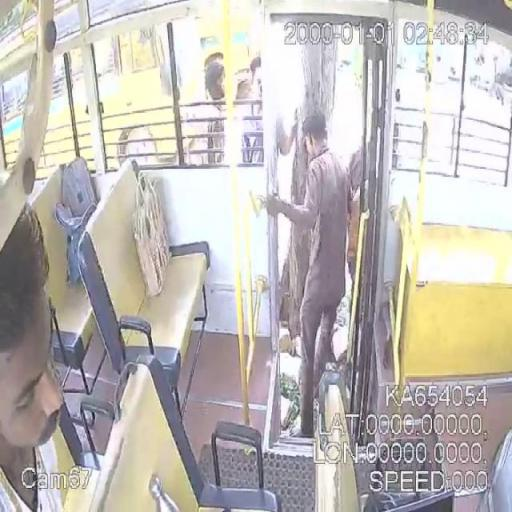persona: (258, 110, 354, 438), (0, 204, 66, 510)
